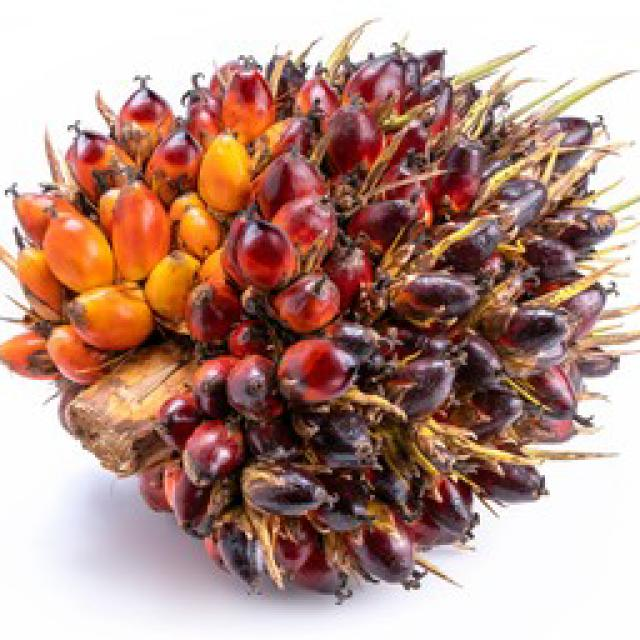FFB: (25, 46, 610, 586)
